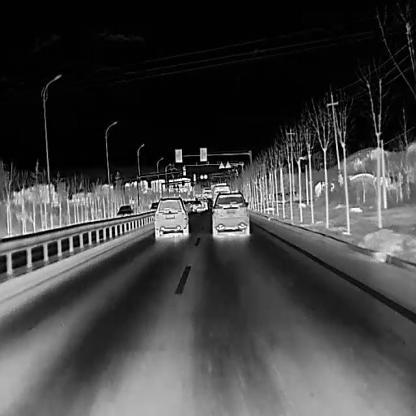car: (211, 190, 249, 238), (153, 195, 188, 239), (114, 203, 135, 229), (212, 185, 229, 208), (148, 202, 158, 218), (191, 200, 202, 211)
